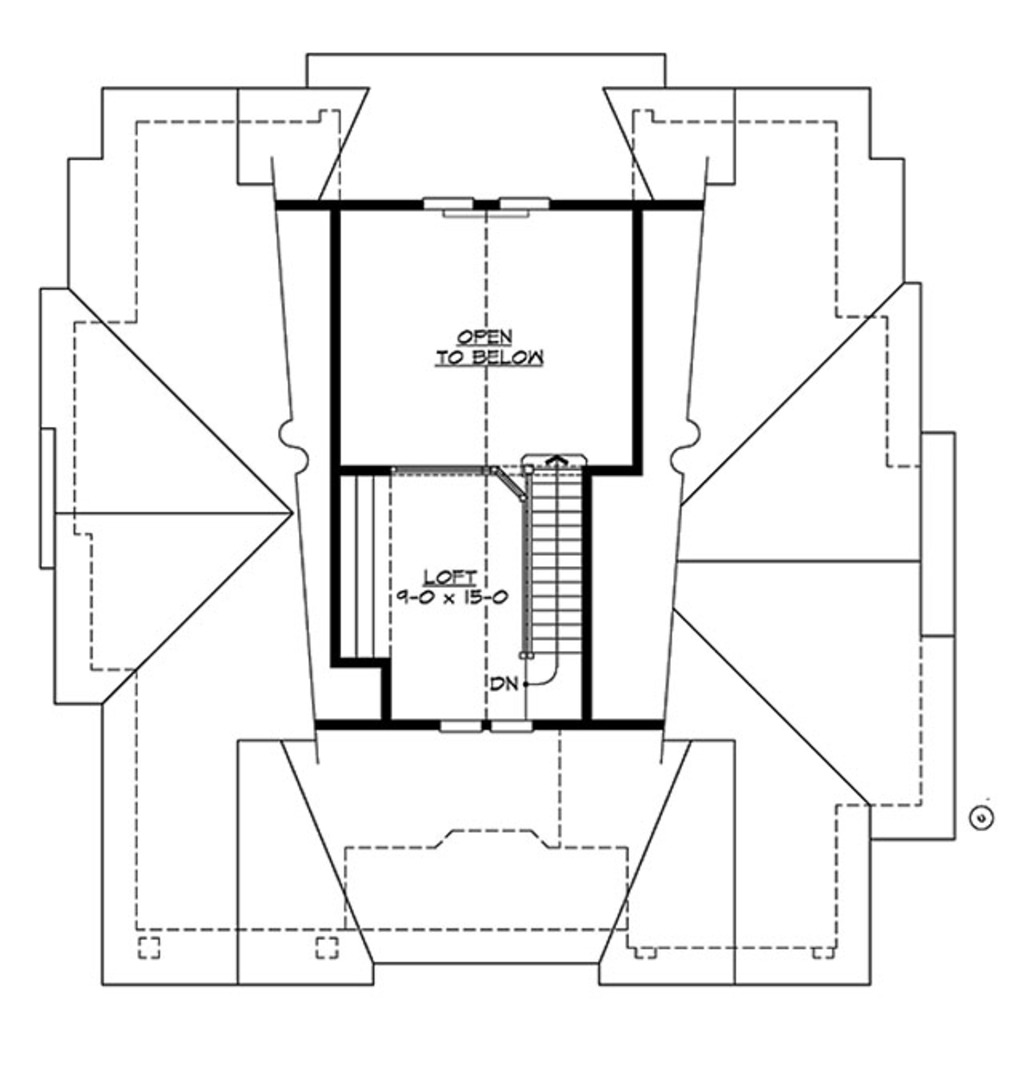stairs: (490, 435, 597, 688)
window: (485, 706, 547, 743), (495, 190, 564, 221), (435, 713, 487, 741), (424, 190, 480, 215)
